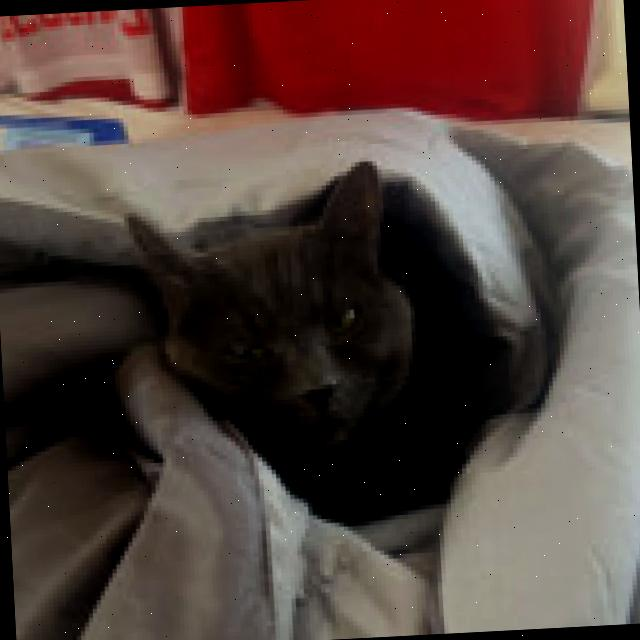russian_blue_cat: (119, 142, 430, 498)
